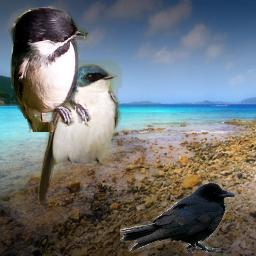Crow: (120, 182, 235, 253)
Swallow: (38, 59, 122, 206), (8, 4, 93, 132)
